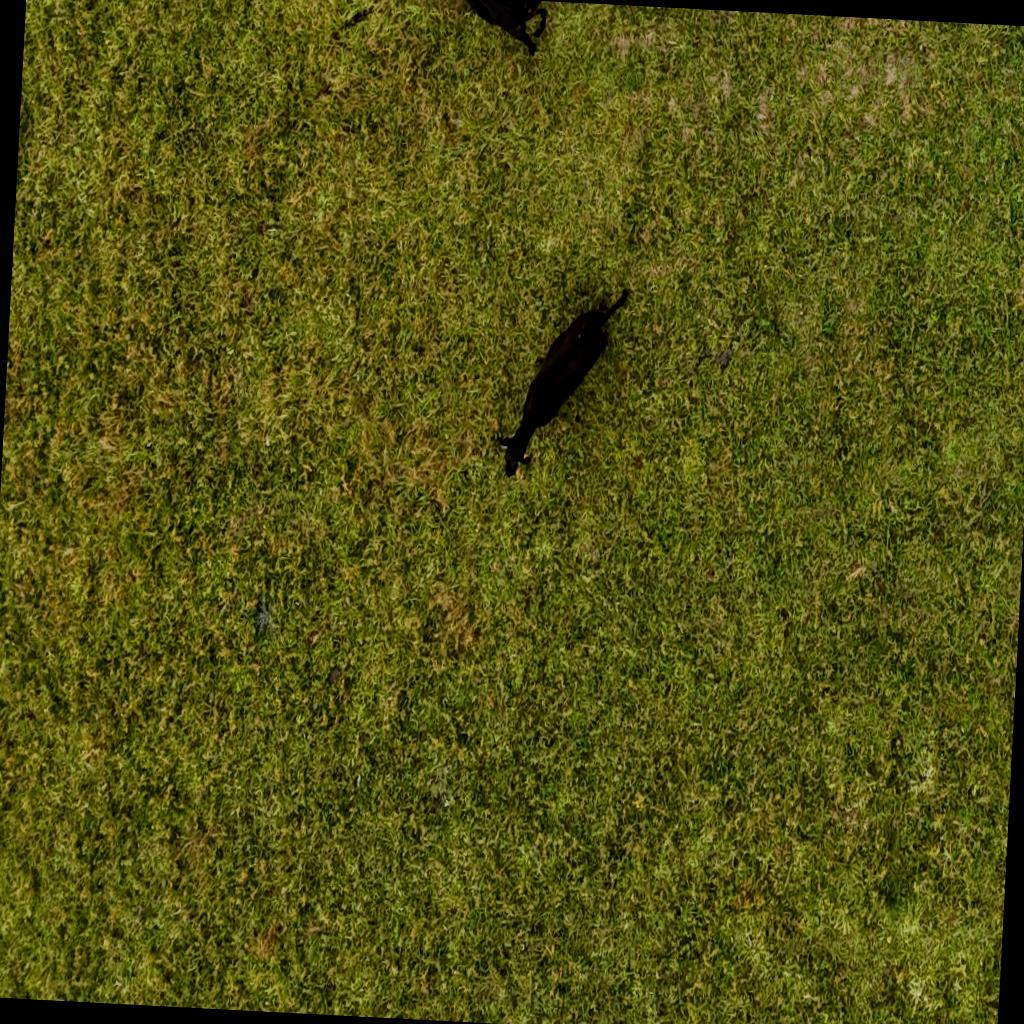cow: (490, 277, 632, 487)
